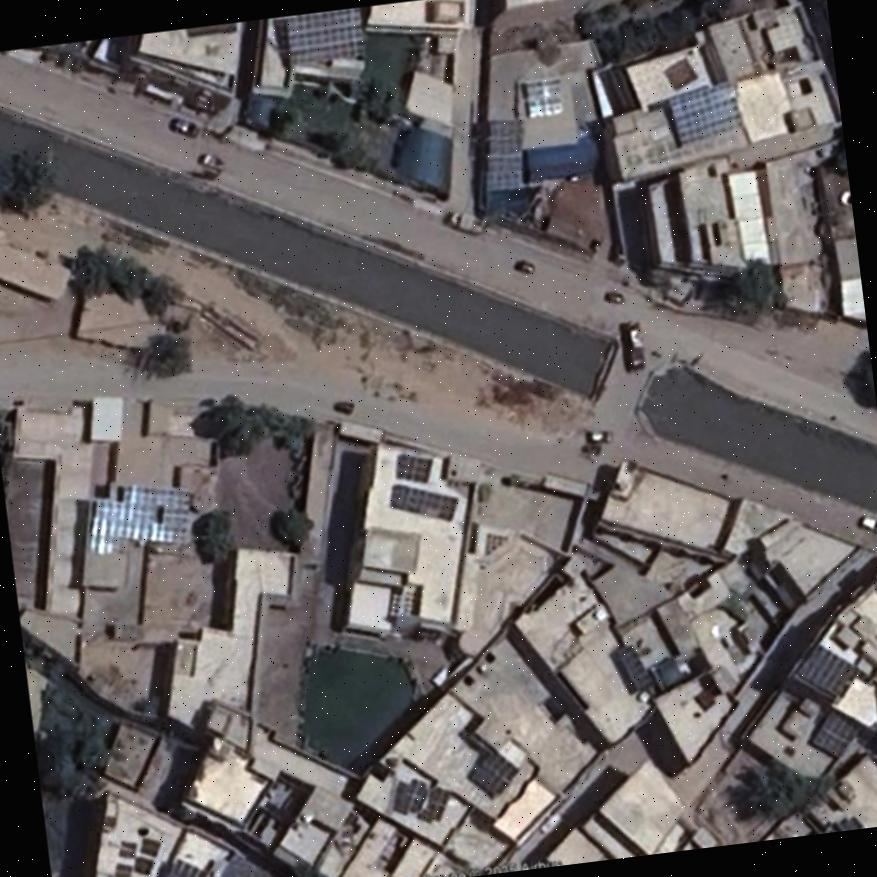Solarpanel: (86, 481, 191, 545), (667, 82, 739, 144), (287, 7, 360, 63), (796, 645, 857, 697), (487, 120, 523, 192), (810, 708, 860, 758), (390, 483, 452, 520), (470, 749, 517, 795), (397, 454, 431, 483), (165, 861, 203, 877)
